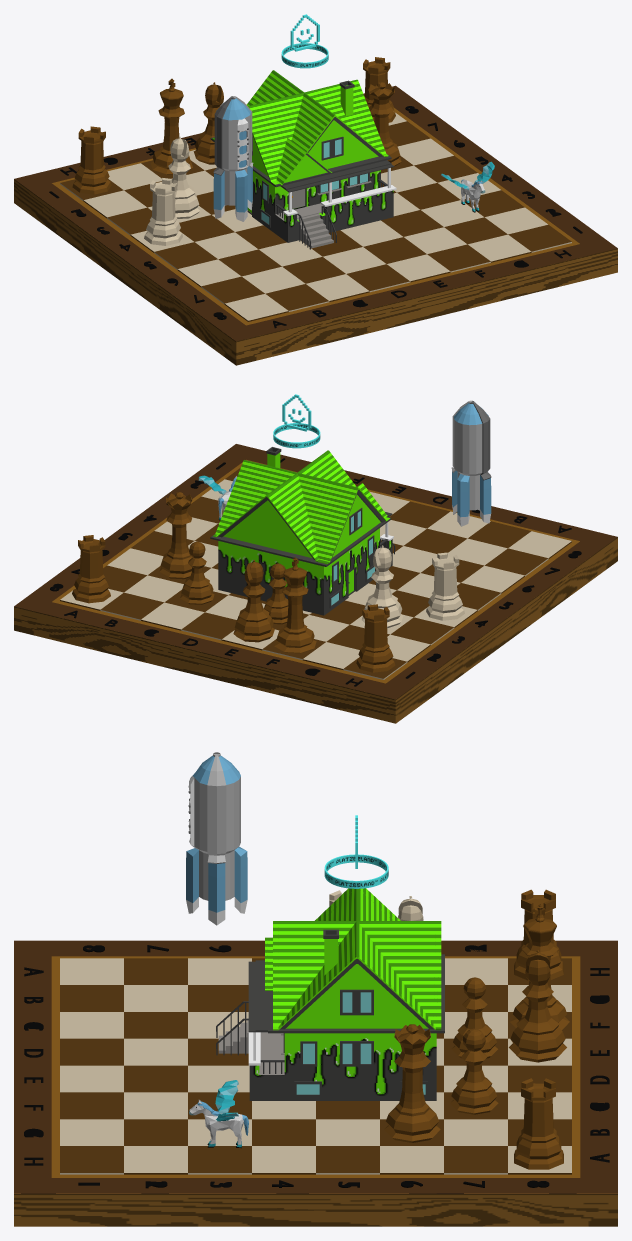
3 renders of one model, top to bottom at view 1: azimuth 30°, elevation 25°; view 2: azimuth 150°, elevation 25°; view 3: azimuth 270°, elevation 25°, orthographic. The views are drawn at different scales.
Parts seen in each view (by area): view 1: Cube.002, Cube.754, OBJRANDOM_ROCKETSHIP, TYPE_PREMIUM, ANIMAL_PEGASO; view 2: Cube.002, Cube.754, OBJRANDOM_ROCKETSHIP, TYPE_PREMIUM, ANIMAL_PEGASO; view 3: Cube.002, Cube.754, OBJRANDOM_ROCKETSHIP, ANIMAL_PEGASO, TYPE_PREMIUM.
Part boxes in pixels (x1,y1,x2,y2): Cube.002: [14, 57, 617, 365]; Cube.754: [210, 70, 396, 249]; OBJRANDOM_ROCKETSHIP: [213, 96, 253, 221]; TYPE_PREMIUM: [281, 14, 328, 68]; ANIMAL_PEGASO: [441, 161, 494, 212]; Cube.002: [14, 444, 617, 723]; Cube.754: [210, 447, 395, 615]; OBJRANDOM_ROCKETSHIP: [451, 400, 491, 526]; TYPE_PREMIUM: [273, 394, 320, 448]; ANIMAL_PEGASO: [198, 475, 236, 520]; Cube.002: [14, 889, 617, 1226]; Cube.754: [216, 888, 444, 1100]; OBJRANDOM_ROCKETSHIP: [186, 752, 247, 925]; ANIMAL_PEGASO: [189, 1080, 248, 1148]; TYPE_PREMIUM: [324, 815, 388, 888].
Size of the model in its own units: 3981 by 2178 by 4012.
Materials: 35 (4 with a texture image).
